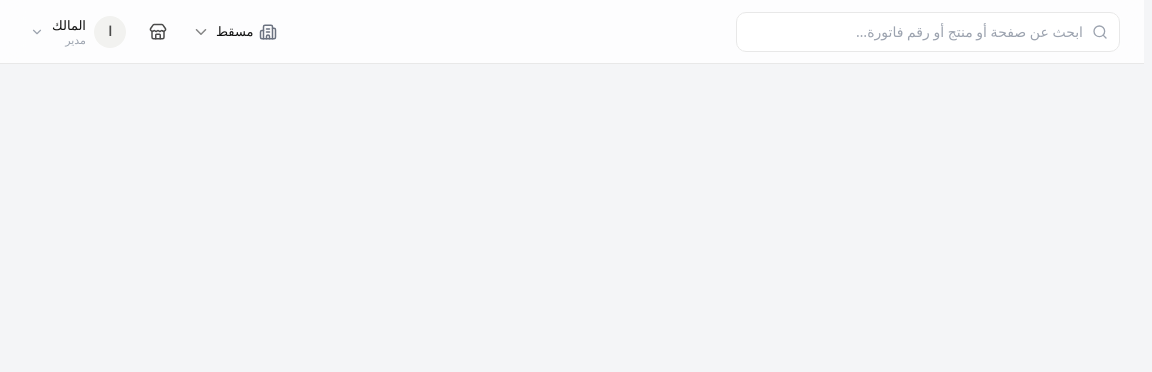
Test: مبدّلُ الفرع في الشريط › ولا يبقى له بابٌ ثانٍ في قائمة الحساب
This screenshot has width=1152, height=372.
Note: وقائمةُ الحساب تفتح بمرور الماوس لا بالنقر — كما بُنيت
Hover over the button "ا المالك مدير" at point(78, 32), box [24,12,132,52]
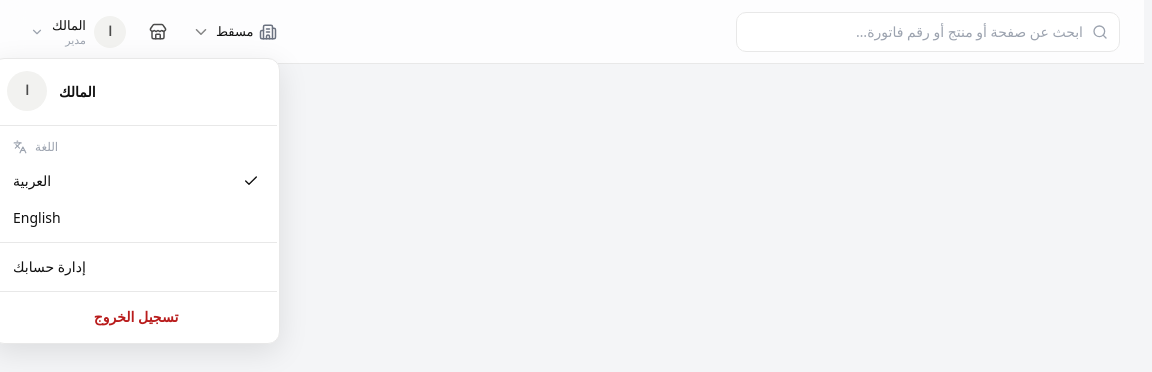
Now the text "اللغة" is shown, box [13,138,58,155]
